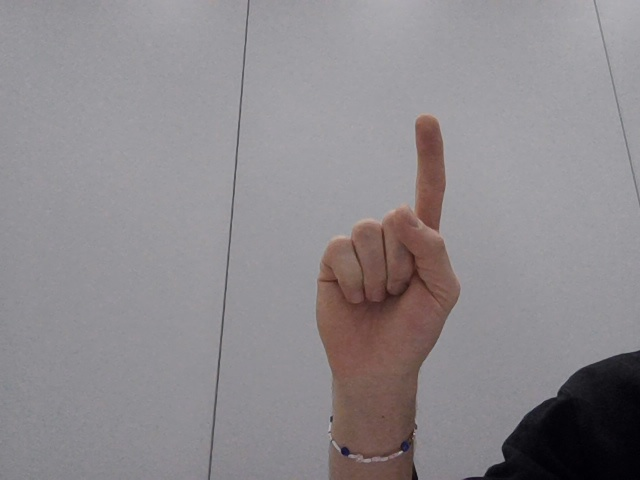up: (300, 94, 490, 409)
